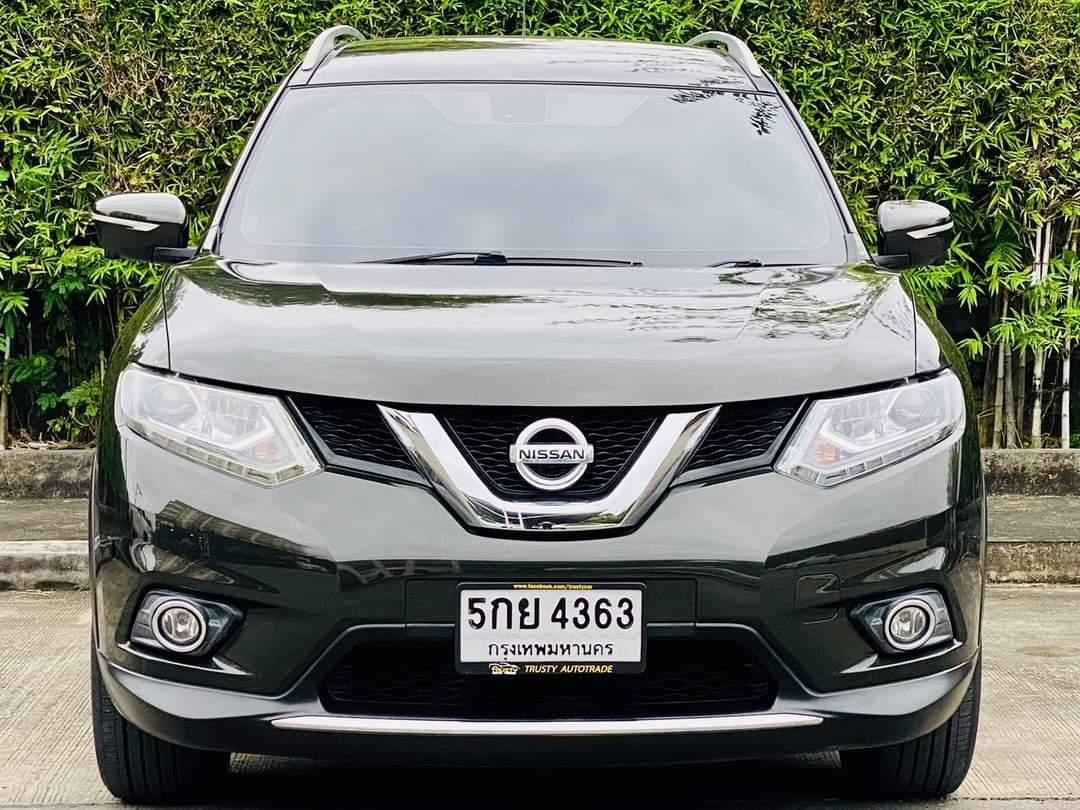license-plate: (452, 579, 648, 680)
